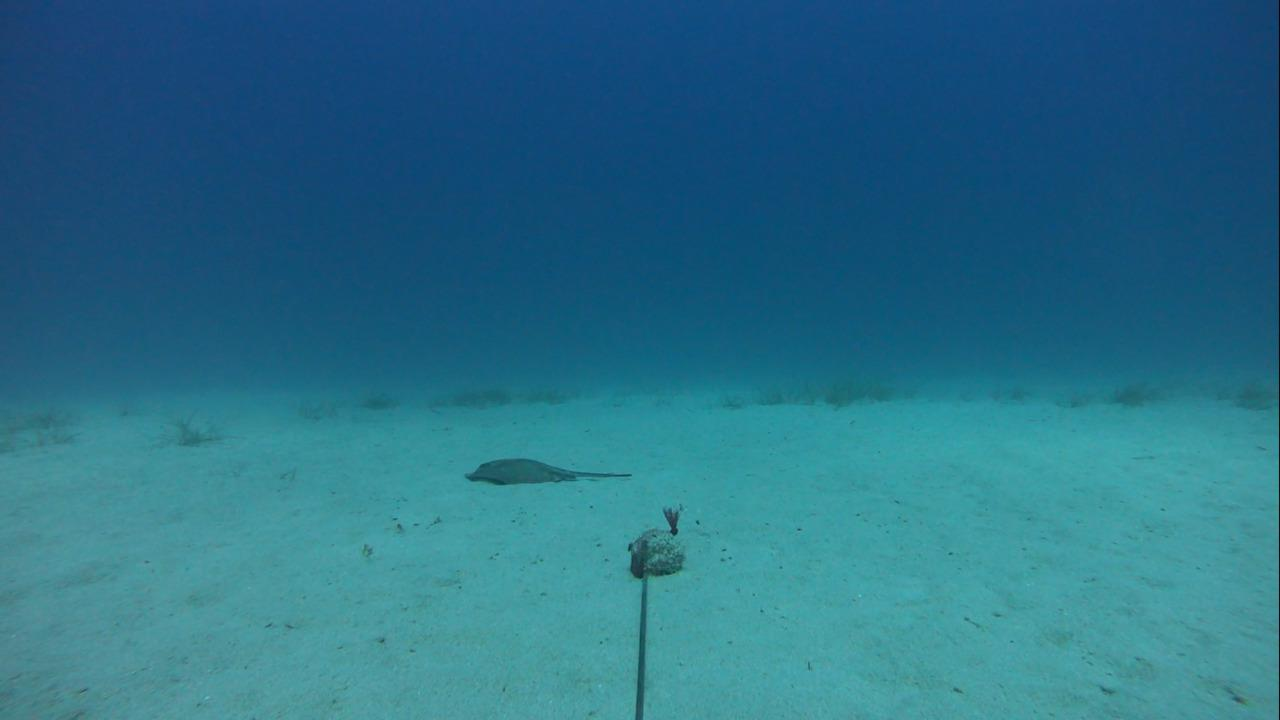myliobatis: (462, 448, 631, 492)
